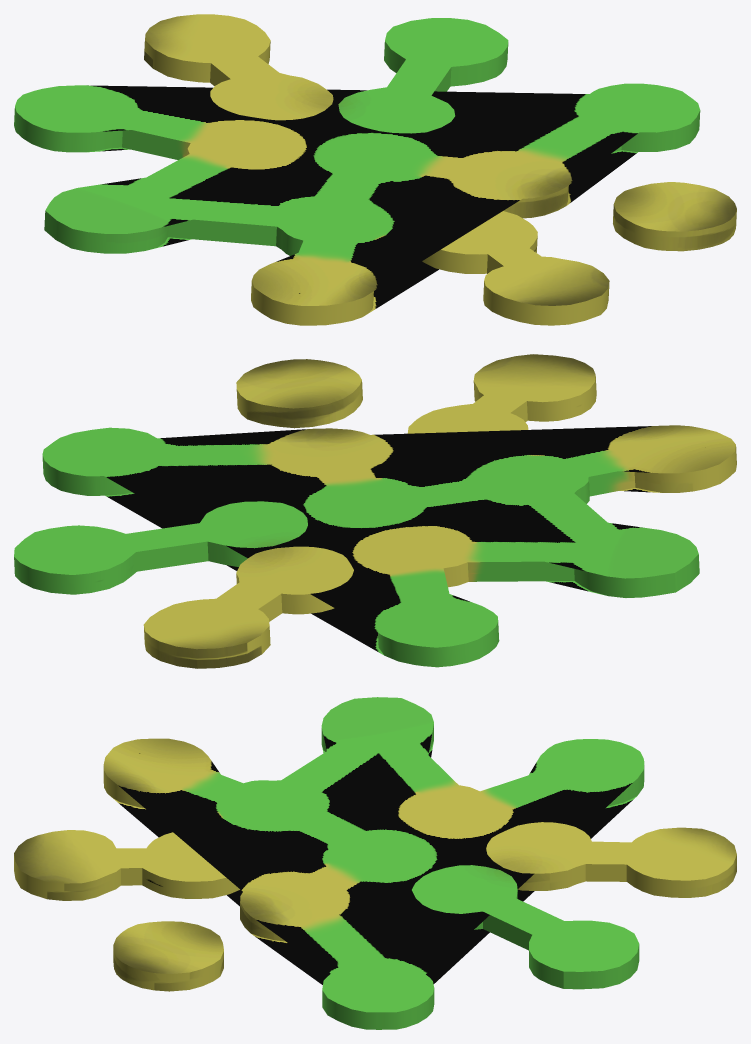
The model's file is ZEMEN_GEBEYA1.fbx.
3 views of the same model, one above another, from view 1: azimuth 30°, elevation 25°; view 2: azimuth 150°, elevation 25°; view 3: azimuth 270°, elevation 25° (orthographic). The views are drawn at different scales.
Parts seen in each view (by area): view 1: Plane.001; view 2: Plane.001; view 3: Plane.001.
Part boxes in pixels (x1,y1,x2,y2): Plane.001: (14, 14, 736, 325); Plane.001: (14, 354, 736, 668); Plane.001: (14, 697, 736, 1029).
Size of the model in its own units: 22.96 by 1.82 by 24.61.
1 material, 1 textured.
